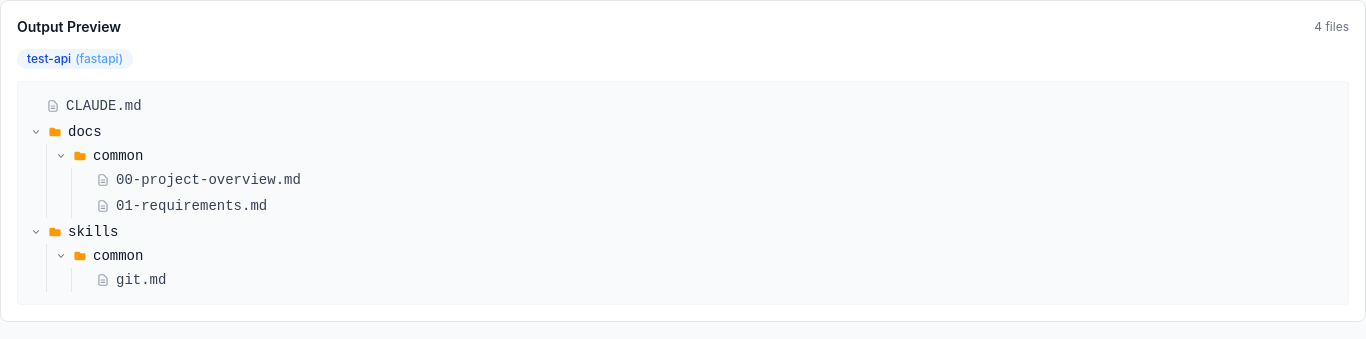
Test: FileTreePreview › should collapse a folder when clicked
This screenshot has width=1366, height=339.
Expected: the text "00-project-overview.md" is shown, [96,172,301,188]
Click the "docs" folder to collapse
Click the button "docs".
click(85, 132)  # box [30,120,1336,144]
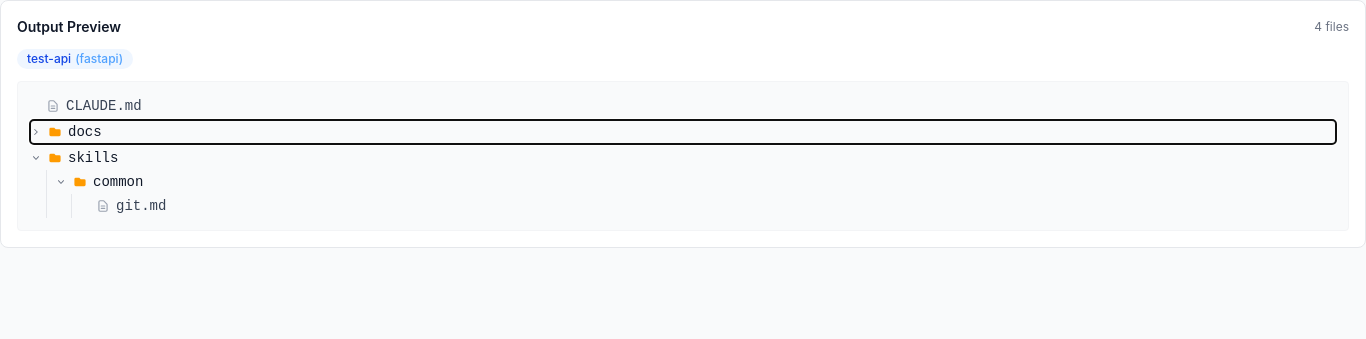
Expected: the text "00-project-overview.md" is gone
